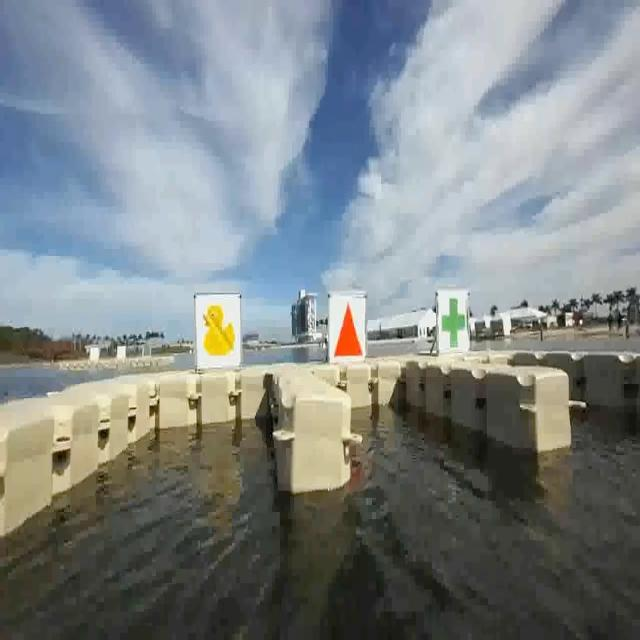blue-cross: (439, 286, 469, 353)
red-dot: (336, 295, 366, 364)
yellow-duck: (202, 302, 236, 358)
